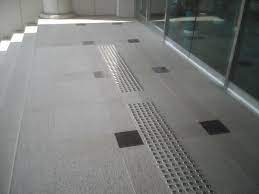guide_blocks: (129, 103, 214, 194), (98, 44, 144, 92)
